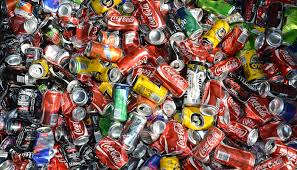can: (1, 1, 297, 170)
